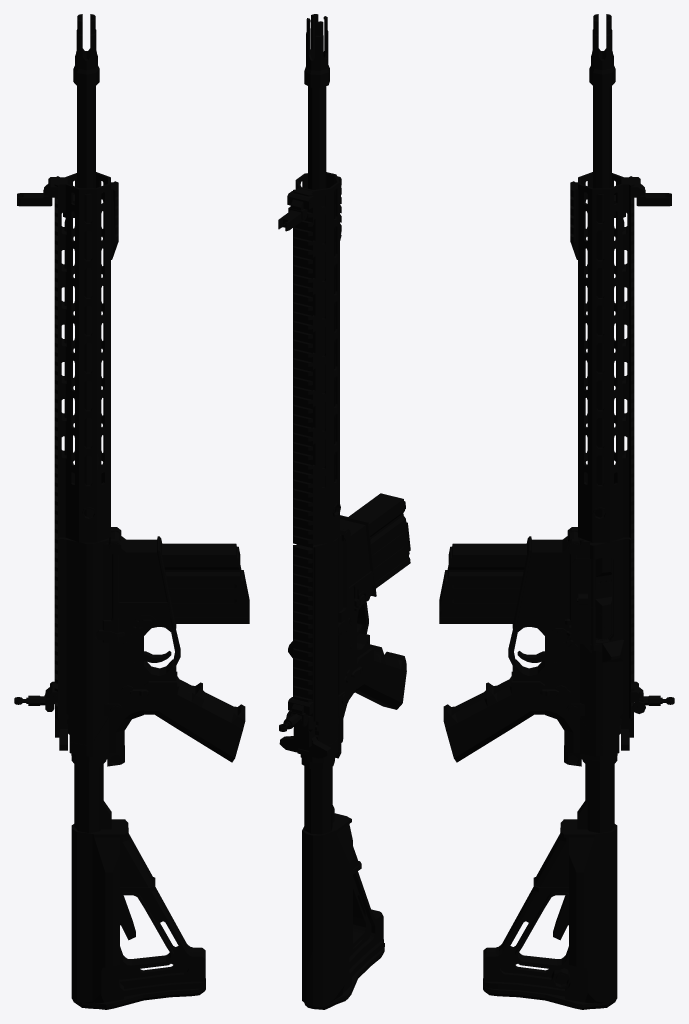
Rendered from Mk12SPR.fbx.
3 views of the same model, side by side, from view 1: azimuth 90°, elevation 25°; view 2: azimuth 150°, elevation 25°; view 3: azimuth 270°, elevation 25° (orthographic).
Visible parts, largest first — view 1: asset_Mk12SPR.001; view 2: asset_Mk12SPR.001; view 3: asset_Mk12SPR.001.
Part boxes in pixels (bbox=[...]): asset_Mk12SPR.001: bbox=[14, 14, 249, 1009]; asset_Mk12SPR.001: bbox=[278, 14, 410, 1009]; asset_Mk12SPR.001: bbox=[439, 14, 674, 1009].
Bounding box in the file's own units: 0.0267 × 0.516 × 0.1118.
